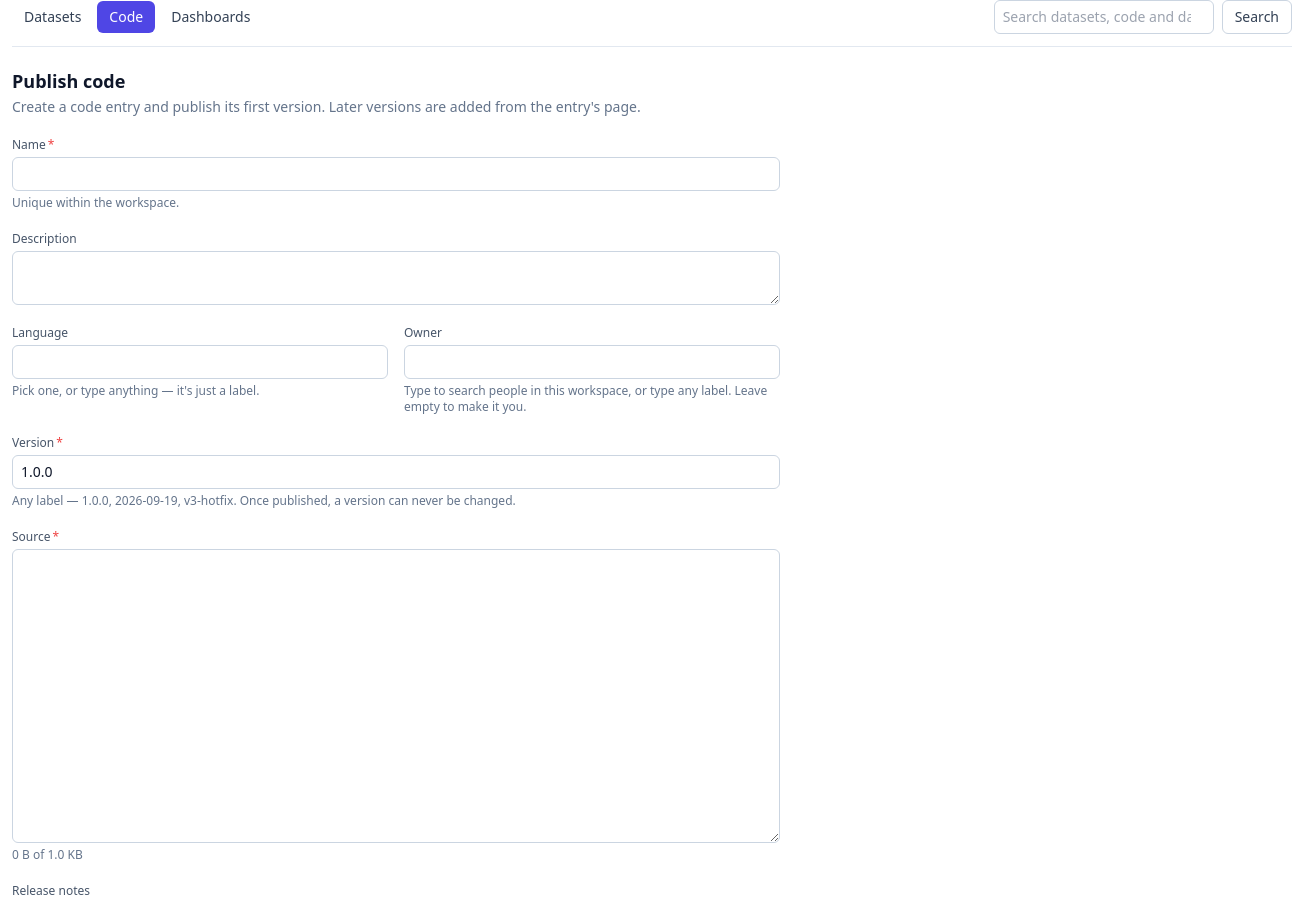
Test: code › publishes a new entry with its first version
Step 1. Type "clean_emails" into the field labelled "Name*" → (396, 174), box [12,157,780,191]
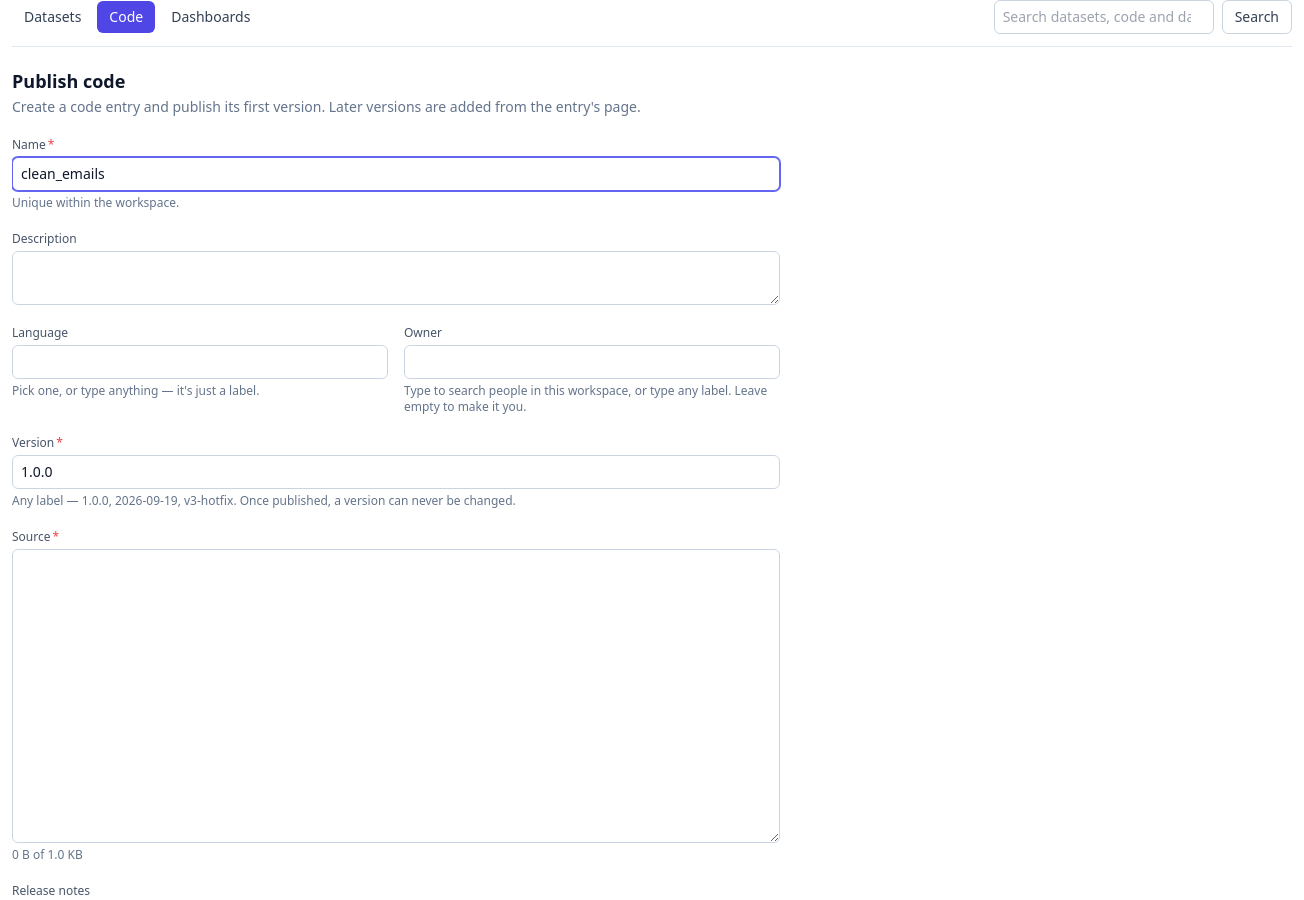
Step 2. Type "Python" into the field labelled "Language" → (200, 362), box [12,345,388,379]
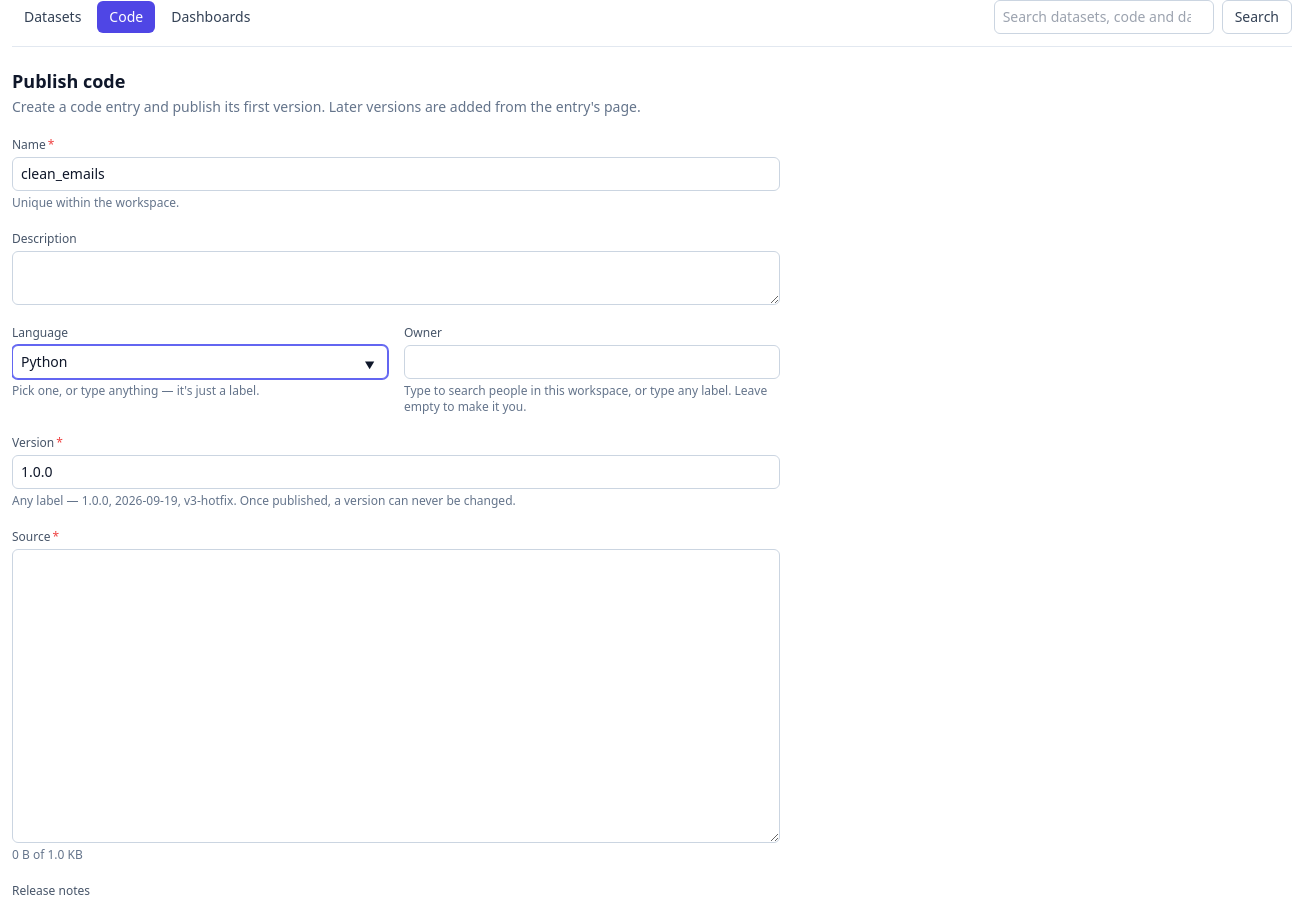
Step 3. Type "def f(): pass" into the text box labelled "Source*" → (396, 696), box [12,549,780,843]
(page scrolled)
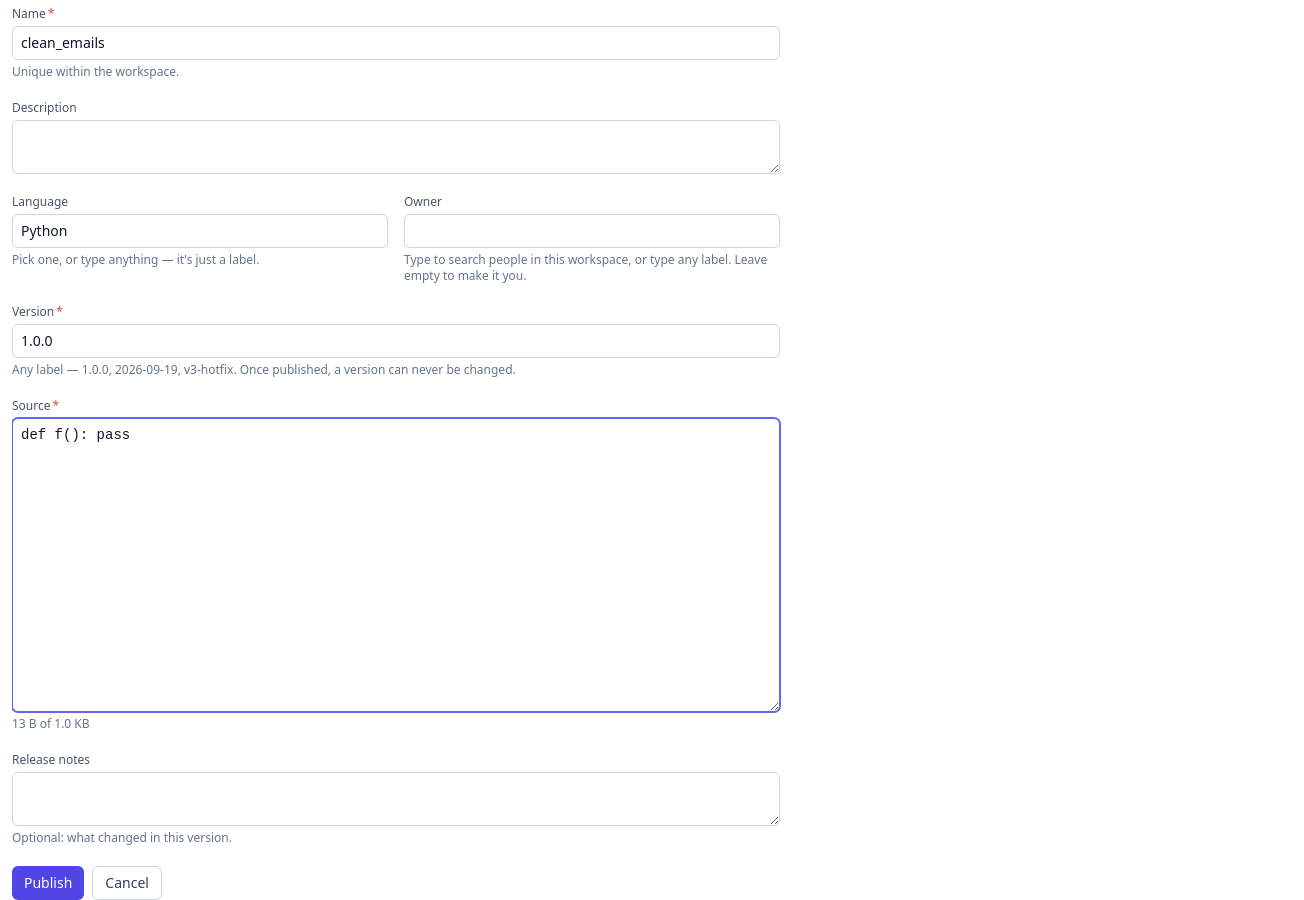
Step 4. Click the button "Publish" → click(48, 883), box [12,866,84,899]
(page scrolled)
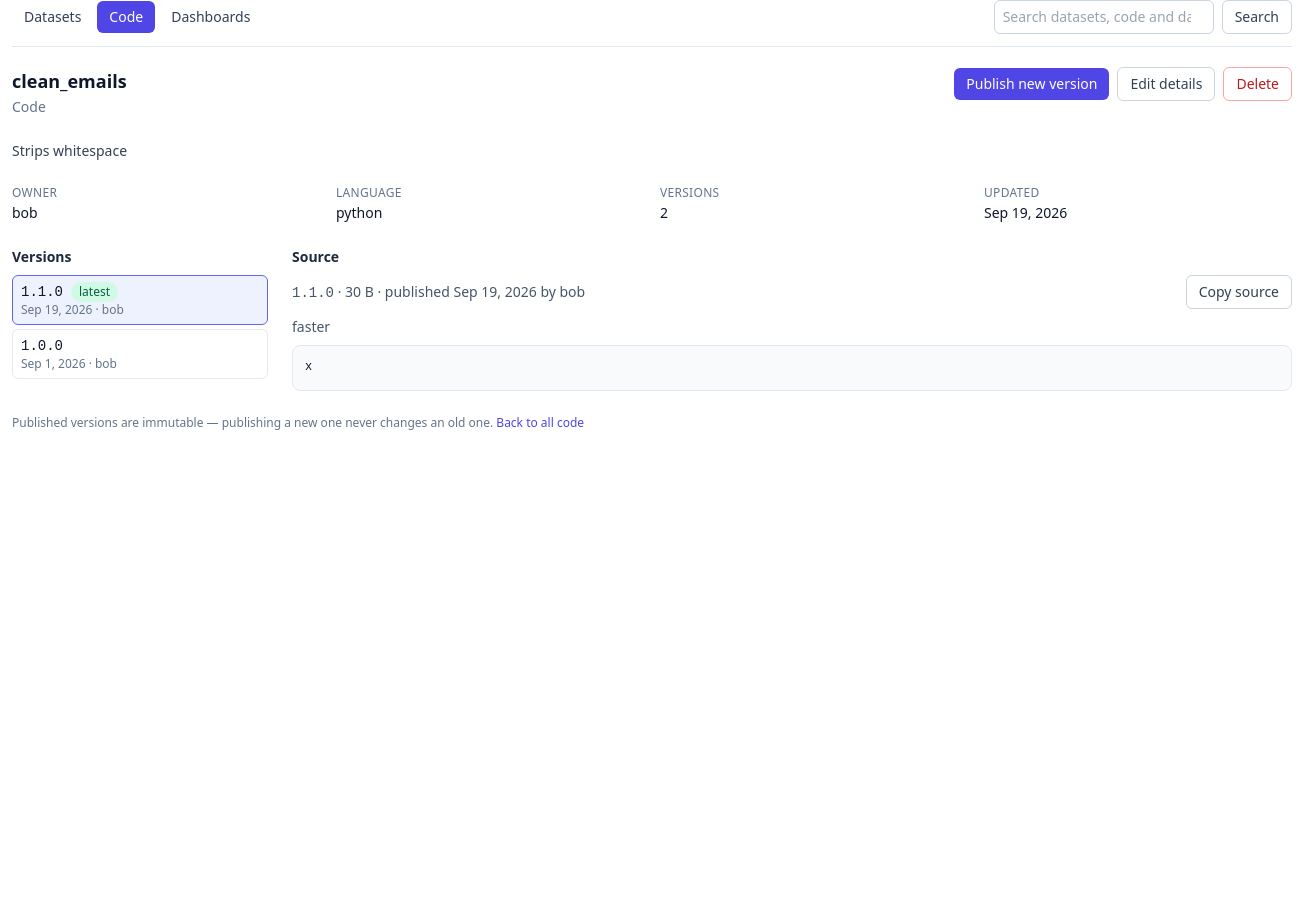
Expected: the heading "clean_emails" is shown, [12,67,127,95]
